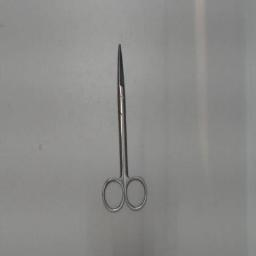Curved Mayo Scissors: (96, 38, 150, 218)
